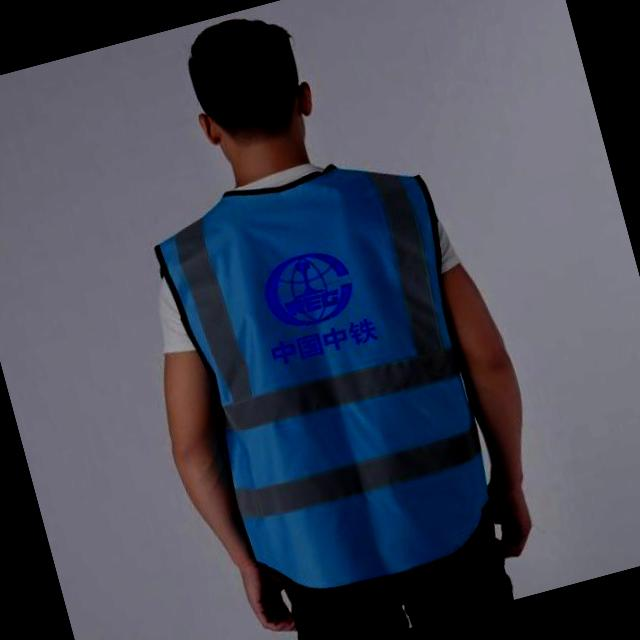vest: (150, 156, 500, 601)
